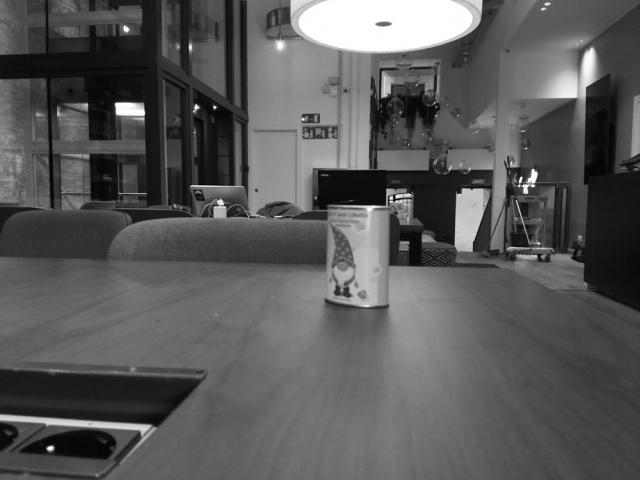gnome: (329, 224, 370, 301)
